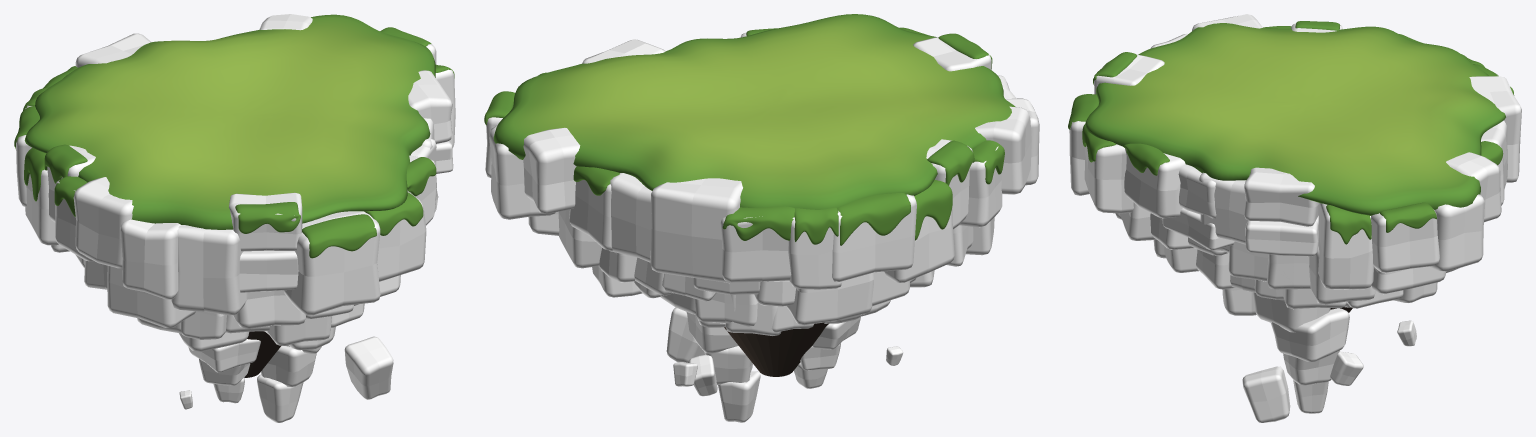
File: IFK01_K1R2_B_M20MC.glb
3 views of the same model, side by side, from view 1: azimuth 30°, elevation 25°; view 2: azimuth 150°, elevation 25°; view 3: azimuth 270°, elevation 25° (orthographic). The views are drawn at different scales.
Visible parts, largest first — view 1: IFK2_B_GROUND, IFK2_B_B0_018, IFK2_B_B0_015, IFK2_B_B0_014, IFK2_B_B0_013, IFK2_B_B1_035, IFK2_B_B0_019, IFK2_B_B0_016b, IFK2_B_B0_016a, IFK2_B_FLOAT_0, IFK2_B_B0_018_DRAPE, IFK2_B_B1_037 (+27 smaller); view 2: IFK2_B_GROUND, IFK2_B_B0_006, IFK2_B_B0_003, IFK2_B_B0_009, IFK2_B_B0_007, IFK2_B_B0_005, IFK2_B_B1_053, IFK2_B_CORE, IFK2_B_B0_013, IFK2_B_B0_002, IFK2_B_B0_008, IFK2_B_B0_009_DRAPE (+38 smaller); view 3: IFK2_B_GROUND, IFK2_B_B0_024a, IFK2_B_B0_000, IFK2_B_B0_001, IFK2_B_B0_002, IFK2_B_SPIRE0_0, IFK2_B_B0_020, IFK2_B_B0_019, IFK2_B_B0_024b, IFK2_B_B0_006, IFK2_B_FLOAT_0, IFK2_B_B0_023 (+29 smaller).
Boxes of the visible parts, x1,y1,x2,y2 form: IFK2_B_GROUND: (24,14,435,229); IFK2_B_B0_018: (283,211,380,315); IFK2_B_B0_015: (171,225,248,315); IFK2_B_B0_014: (120,219,181,299); IFK2_B_B0_013: (73,177,133,268); IFK2_B_B1_035: (107,266,195,327); IFK2_B_B0_019: (366,191,426,281); IFK2_B_B0_016b: (239,250,298,292); IFK2_B_B0_016a: (229,192,302,251); IFK2_B_FLOAT_0: (344,336,393,399); IFK2_B_B0_018_DRAPE: (302,214,376,258); IFK2_B_B1_037: (233,290,305,328); IFK2_B_GROUND: (493,14,1015,209); IFK2_B_B0_006: (650,178,742,283); IFK2_B_B0_003: (523,127,580,213); IFK2_B_B0_009: (832,194,916,281); IFK2_B_B0_007: (720,216,794,282); IFK2_B_B0_005: (609,173,652,262); IFK2_B_B1_053: (786,272,873,325); IFK2_B_CORE: (724,322,828,376); IFK2_B_B0_013: (975,106,1031,194); IFK2_B_B0_002: (489,126,555,219); IFK2_B_B0_008: (788,211,842,289); IFK2_B_B0_009_DRAPE: (837,193,910,245); IFK2_B_GROUND: (1085,23,1505,215); IFK2_B_B0_024a: (1244,167,1318,226); IFK2_B_B0_000: (1318,203,1373,289); IFK2_B_B0_001: (1371,209,1439,273); IFK2_B_B0_002: (1429,194,1484,271); IFK2_B_SPIRE0_0: (1271,308,1349,361); IFK2_B_B0_020: (1124,148,1185,218); IFK2_B_B0_019: (1084,144,1133,213); IFK2_B_B0_024b: (1245,216,1318,256); IFK2_B_B0_006: (1469,76,1521,182); IFK2_B_FLOAT_0: (1242,366,1290,422); IFK2_B_B0_023: (1199,172,1247,244).
Size of the model in its own units: 144 by 102 by 140.
